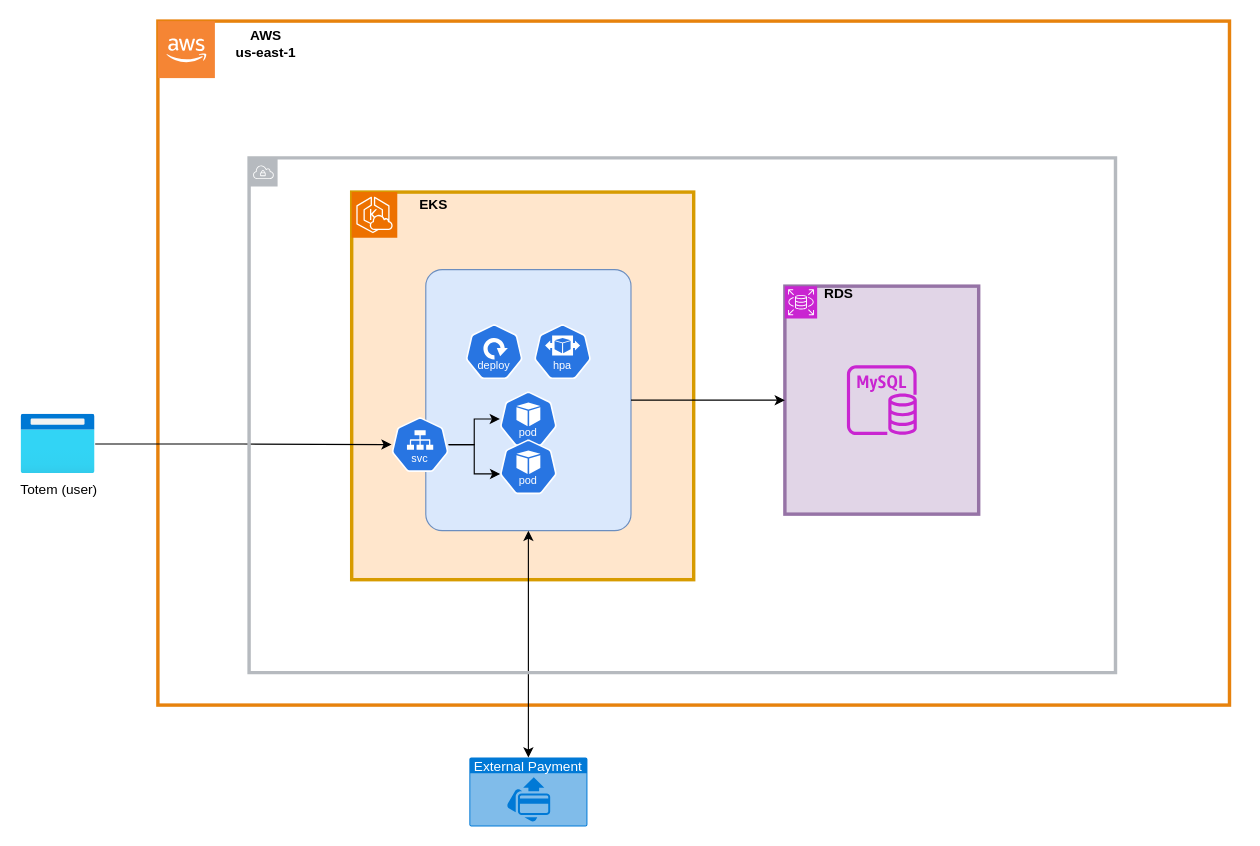
Image size: 1260x846. Some labels were removed from this diagram. The shapes that lost their labels are listed below. From the top down, each one's box as (x1, y1, x2, y2) in pixels, then its label:
(425, 268, 631, 531): API
(247, 156, 1117, 674): VPC
